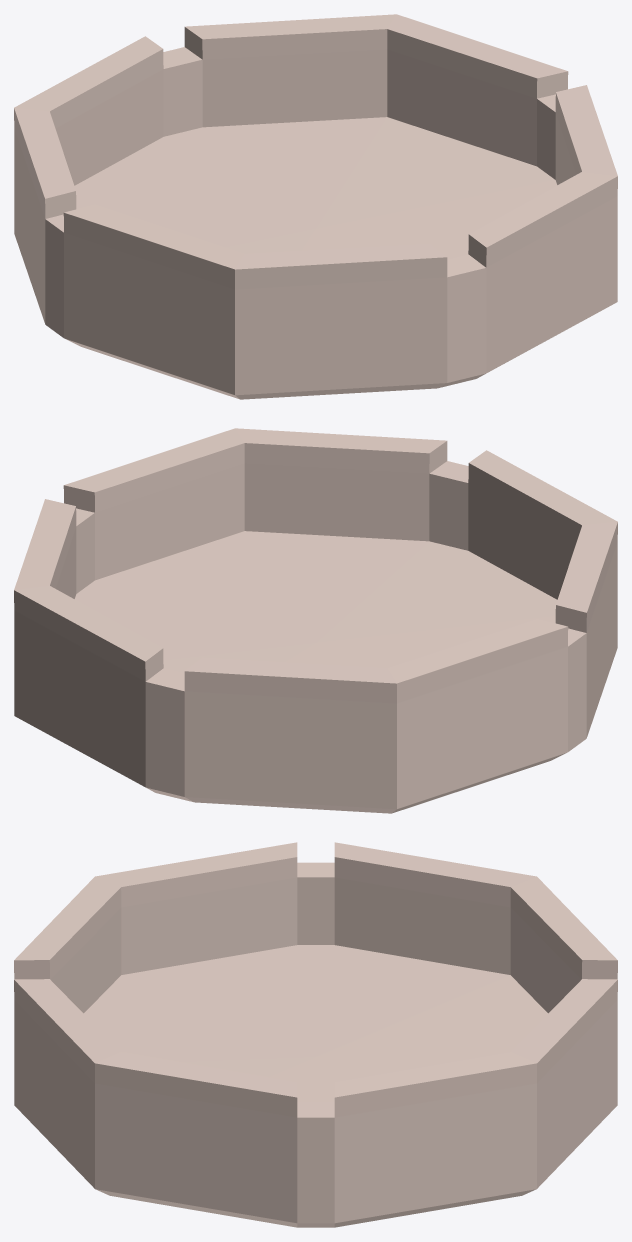
File: ashtray.fbx
The picture shows the model from 3 angles, top to bottom: view 1: azimuth 30°, elevation 25°; view 2: azimuth 150°, elevation 25°; view 3: azimuth 270°, elevation 25°; orthographic projection.
Visible parts, largest first — view 1: ash tray; view 2: ash tray; view 3: ash tray.
Boxes of the visible parts, left/top/right/bottom form: ash tray: left=14, top=14, right=617, bottom=399; ash tray: left=14, top=428, right=617, bottom=813; ash tray: left=14, top=842, right=617, bottom=1227.
Bounding box in the file's own units: 115 × 29.22 × 115.
